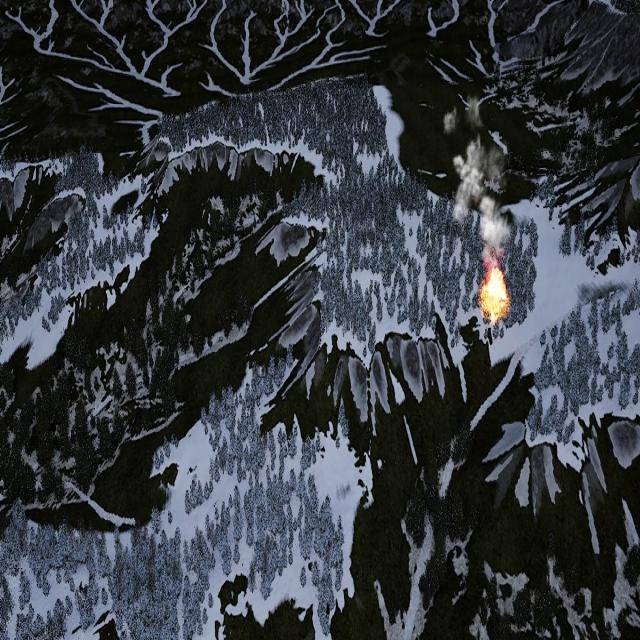fire: (481, 267, 508, 319)
smoke: (441, 88, 505, 254)
